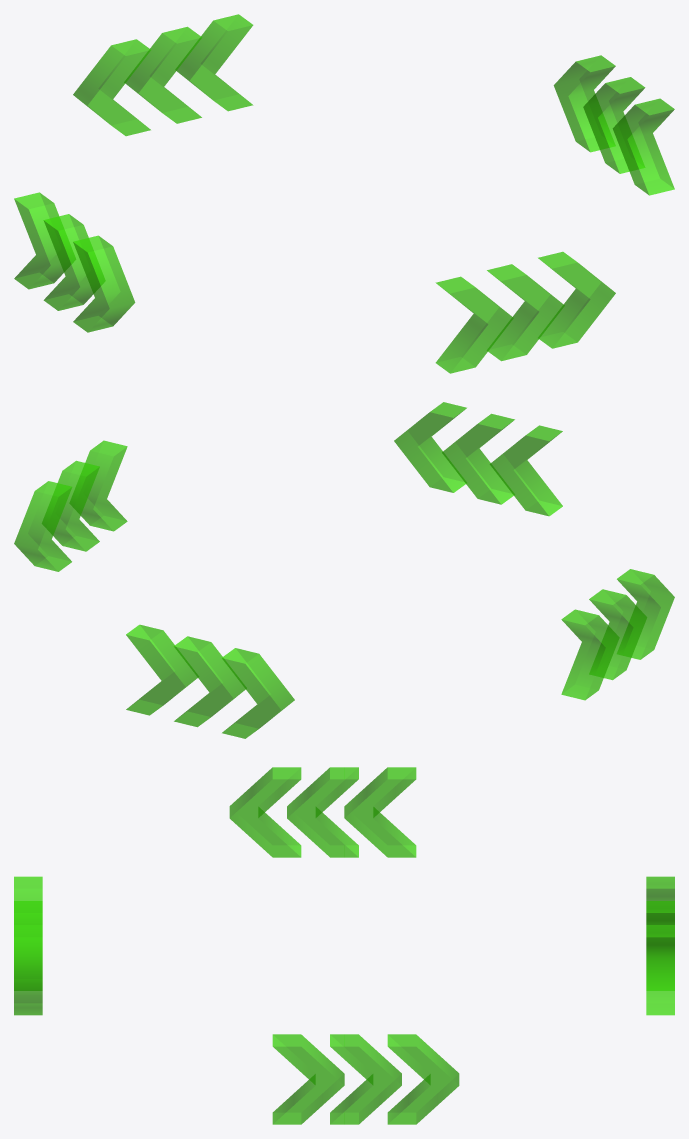
The model's file is Speed.fbx.
3 views of the same model, one above another, from view 1: azimuth 30°, elevation 25°; view 2: azimuth 150°, elevation 25°; view 3: azimuth 270°, elevation 25° (orthographic). The views are drawn at different scales.
Visible parts, largest first — view 1: pCube8 (×4), pCube9 (×4), pCube7 (×4); view 2: pCube9 (×4), pCube8 (×4), pCube7 (×4); view 3: pCube9 (×4), pCube7 (×4), pCube8 (×4).
Boxes of the visible parts, bbox=[...] form: pCube8 (×4): bbox=[73, 39, 674, 373]; pCube9 (×4): bbox=[14, 14, 615, 348]; pCube7 (×4): bbox=[43, 26, 645, 361]; pCube9 (×4): bbox=[14, 402, 619, 715]; pCube8 (×4): bbox=[70, 425, 674, 738]; pCube7 (×4): bbox=[42, 413, 647, 727]; pCube9 (×4): bbox=[14, 767, 674, 1124]; pCube7 (×4): bbox=[14, 767, 674, 1124]; pCube8 (×4): bbox=[14, 767, 674, 1124].
Size of the model in its own units: 23 by 3 by 23.
